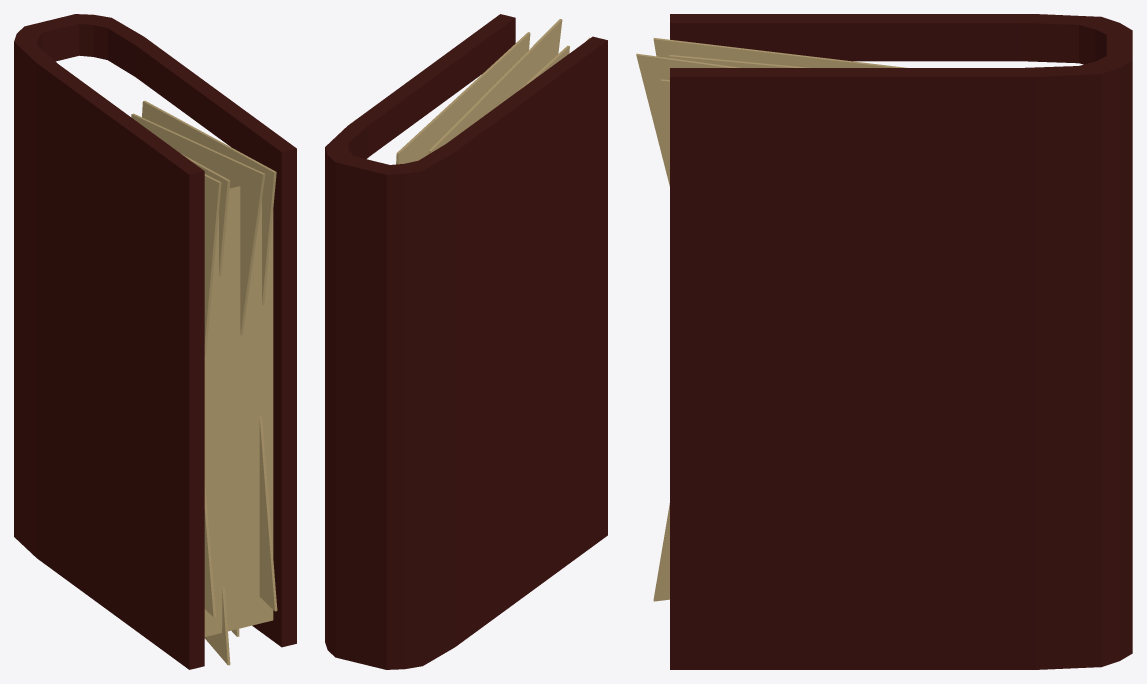
File: book1_closed.glb
3 renders of one model, left to right at view 1: azimuth 30°, elevation 25°; view 2: azimuth 150°, elevation 25°; view 3: azimuth 270°, elevation 25°, orthographic. The views are drawn at different scales.
Visible parts, largest first — view 1: Book1_Closed; view 2: Book1_Closed; view 3: Book1_Closed.
Boxes of the visible parts, <box> form: Book1_Closed: <box>14,14,296,669</box>; Book1_Closed: <box>325,14,607,669</box>; Book1_Closed: <box>636,14,1132,669</box>.
Size of the model in its own units: 17.95 by 80.2 by 59.93.
